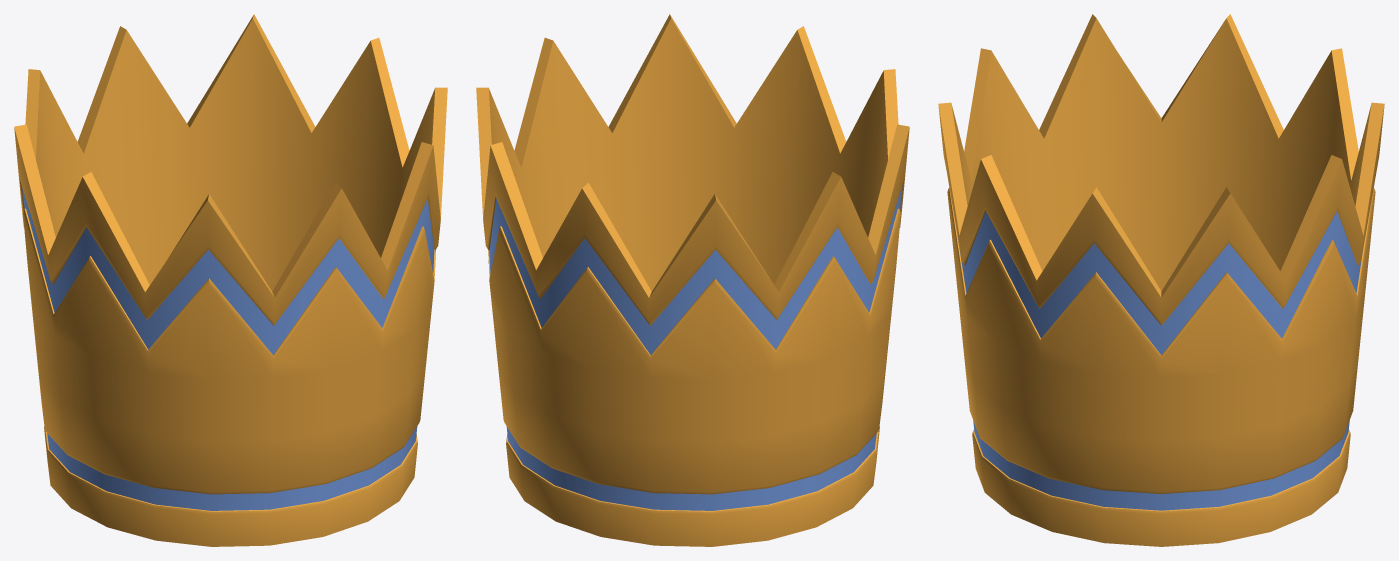
The model's file is Crown_05_blend.dae.
The picture shows the model from 3 angles, left to right: view 1: azimuth 30°, elevation 25°; view 2: azimuth 150°, elevation 25°; view 3: azimuth 270°, elevation 25°; orthographic projection.
Parts seen in each view (by area): view 1: Crown; view 2: Crown; view 3: Crown.
Boxes of the visible parts, x1=… form: Crown: x1=14, y1=14, x2=447, y2=546; Crown: x1=476, y1=14, x2=909, y2=546; Crown: x1=938, y1=14, x2=1384, y2=546.
Size of the model in its own units: 1.37 by 1.43 by 1.3.
